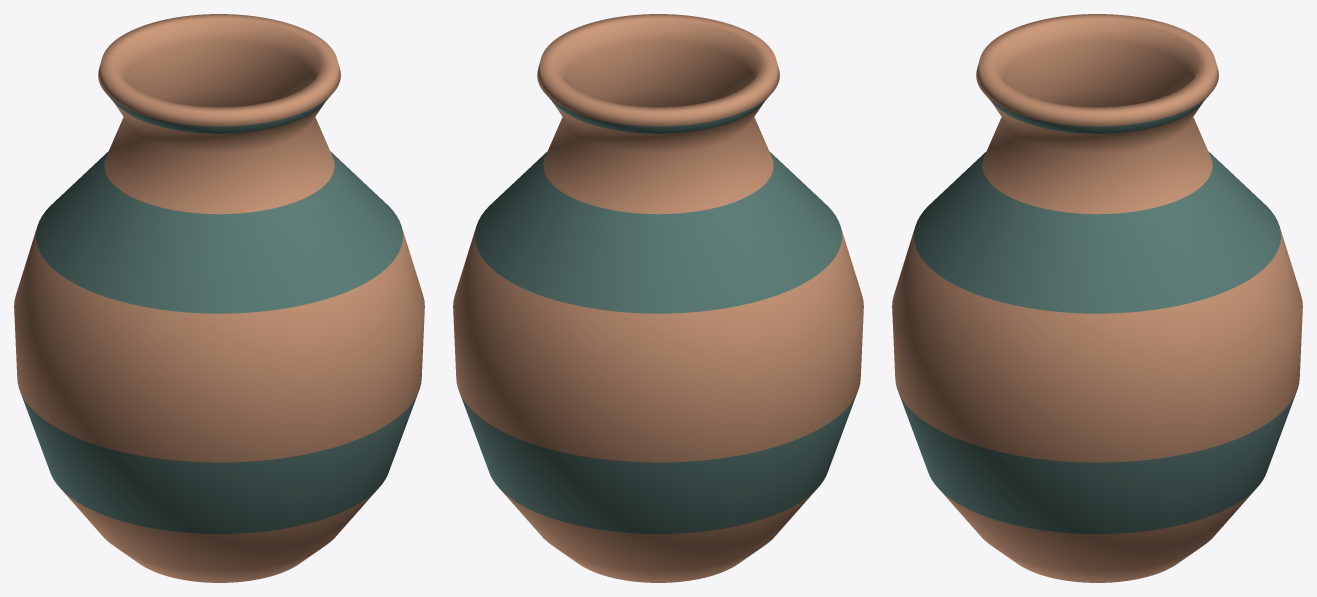
File: sample-vase.glb
3 views of the same model, side by side, from view 1: azimuth 30°, elevation 25°; view 2: azimuth 150°, elevation 25°; view 3: azimuth 270°, elevation 25° (orthographic).
Parts seen in each view (by area): view 1: Vaso dimostrativo originale; view 2: Vaso dimostrativo originale; view 3: Vaso dimostrativo originale.
Boxes of the visible parts, left/top/right/bottom form: Vaso dimostrativo originale: left=14, top=14, right=424, bottom=582; Vaso dimostrativo originale: left=453, top=14, right=863, bottom=582; Vaso dimostrativo originale: left=892, top=14, right=1302, bottom=582.
Bounding box in the file's own units: 1.32 × 1.74 × 1.32.
